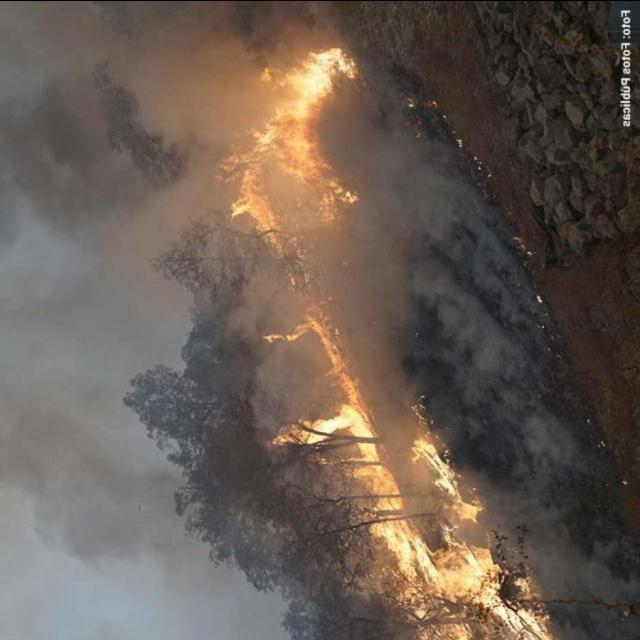Fire: (272, 305, 544, 633), (220, 36, 367, 232)
